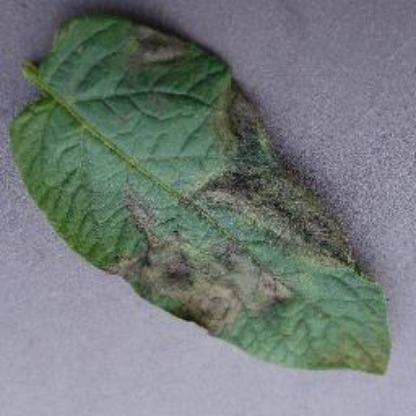Late-Blight: (13, 5, 392, 394)
